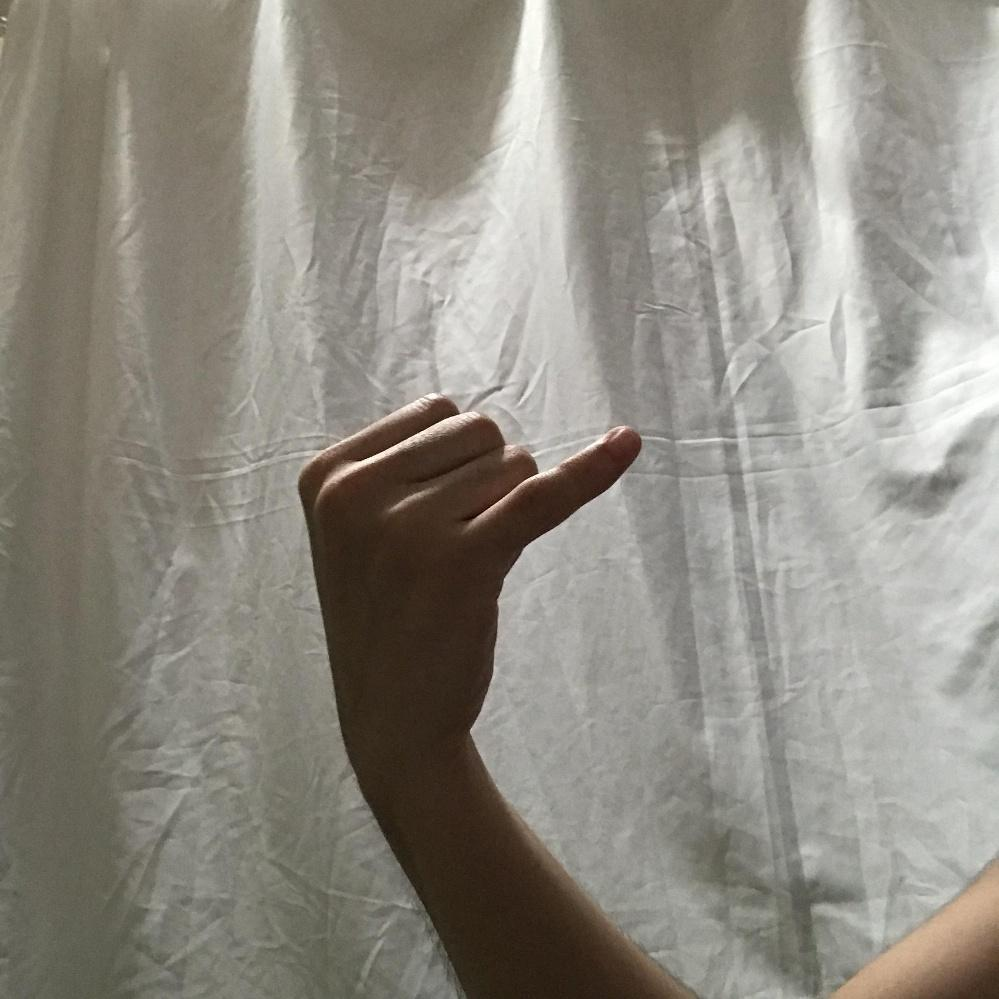j: (297, 390, 643, 732)
